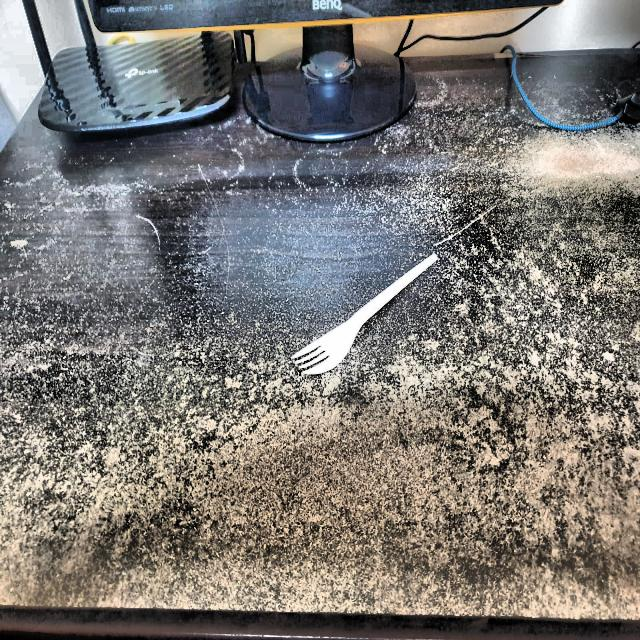plastic utensil: (294, 251, 440, 376)
